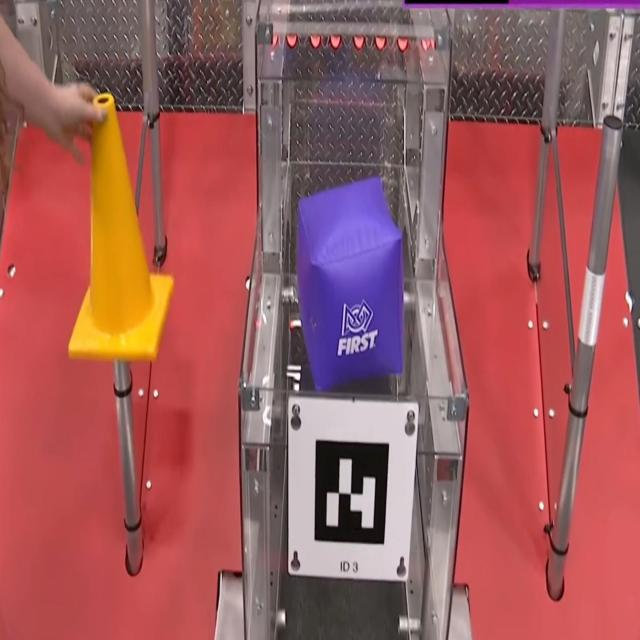frc_cone: (65, 92, 174, 364)
frc_cube: (295, 178, 408, 393)
